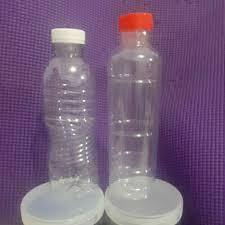BIODEGRADABLE: (32, 25, 104, 205), (101, 6, 165, 208)
